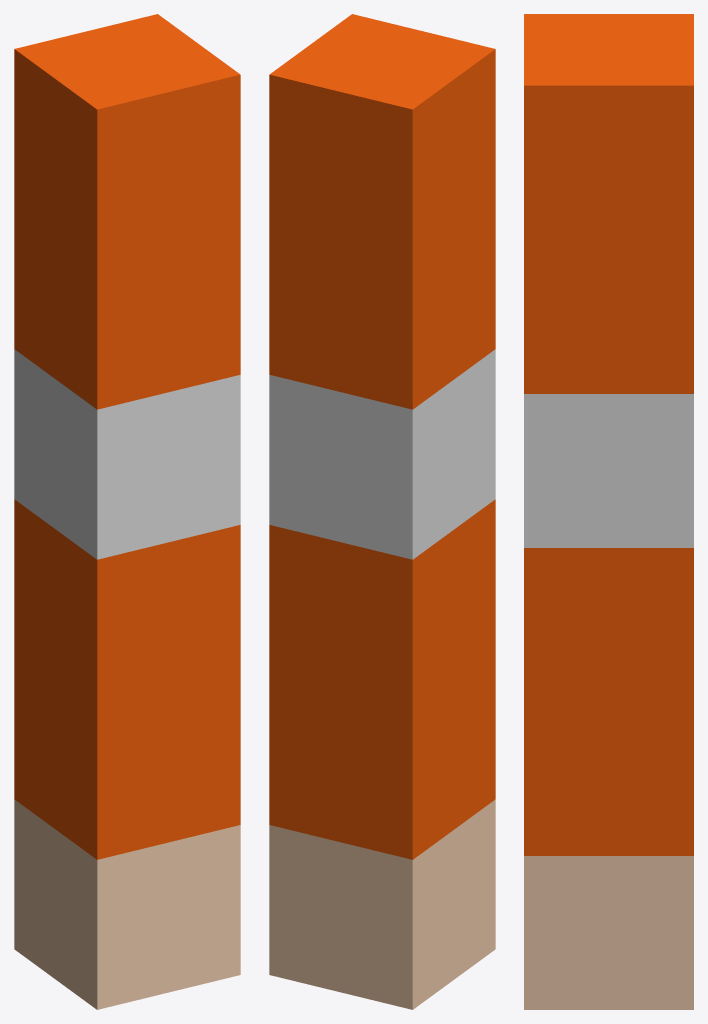
Rendered from arm1.obj.
3 views of the same model, side by side, from view 1: azimuth 30°, elevation 25°; view 2: azimuth 150°, elevation 25°; view 3: azimuth 270°, elevation 25° (orthographic). The views are drawn at different scales.
Bounding box in the file's own units: 0.2 × 1.2 × 0.2.
1 material, 1 textured.
